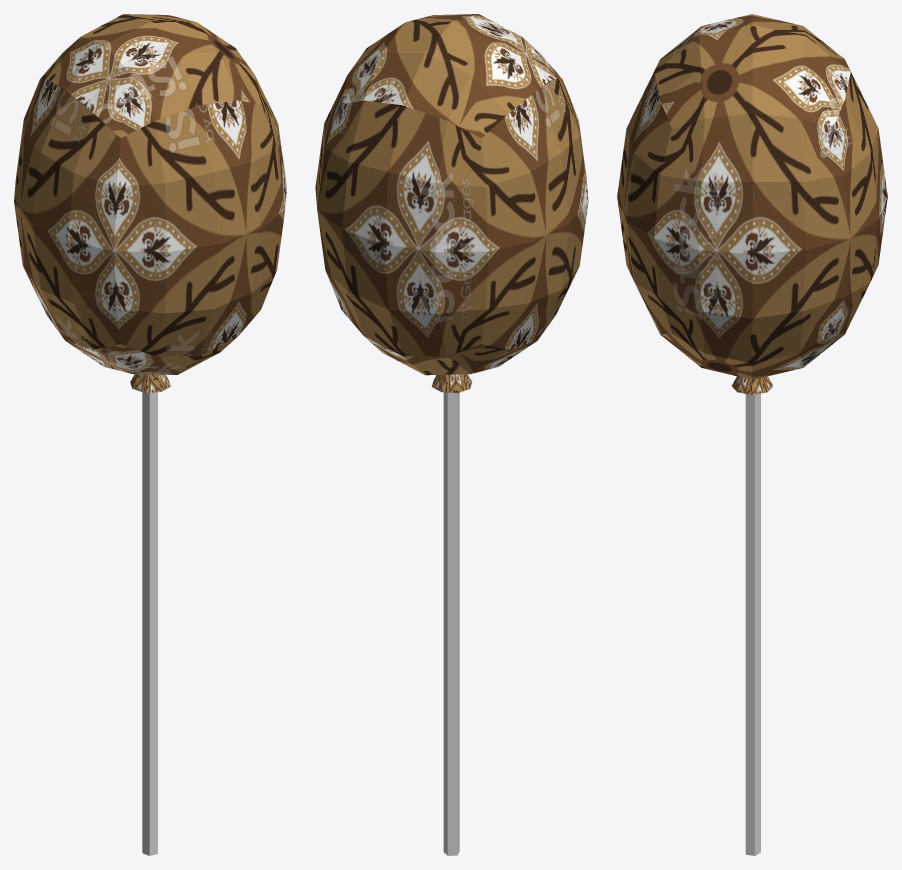
File: Balon Batik Coklat.fbx
The picture shows the model from 3 angles, left to right: view 1: azimuth 30°, elevation 25°; view 2: azimuth 150°, elevation 25°; view 3: azimuth 270°, elevation 25°; orthographic projection.
Visible parts, largest first — view 1: Cylinder.005; view 2: Cylinder.005; view 3: Cylinder.005.
Part boxes in pixels (box(x1,y1,x2,y2)): Cylinder.005: box(14, 14, 286, 855); Cylinder.005: box(315, 14, 588, 855); Cylinder.005: box(617, 14, 887, 855).
Bounding box in the file's own units: 41.45 × 140 × 41.45.
Materials: 2 (1 with a texture image).
